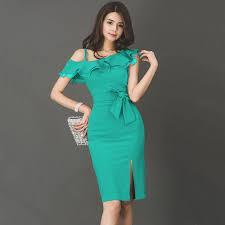dress: (60, 49, 148, 201)
